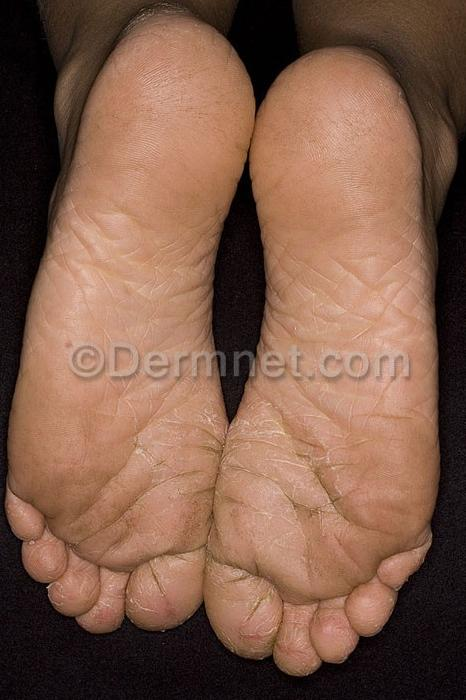liquenificacion 1: (19, 143, 211, 428), (253, 226, 440, 396)
xerosis 2: (125, 0, 194, 38)
xerosis 3: (60, 389, 383, 673)
